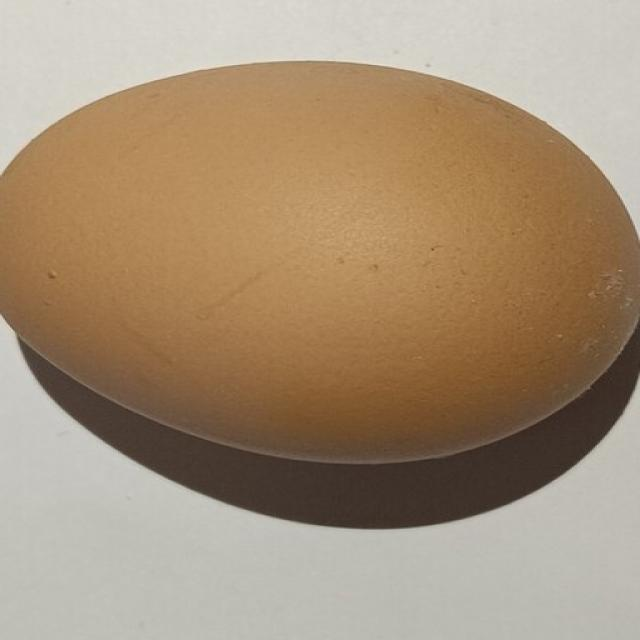fresh: (0, 50, 640, 478)
